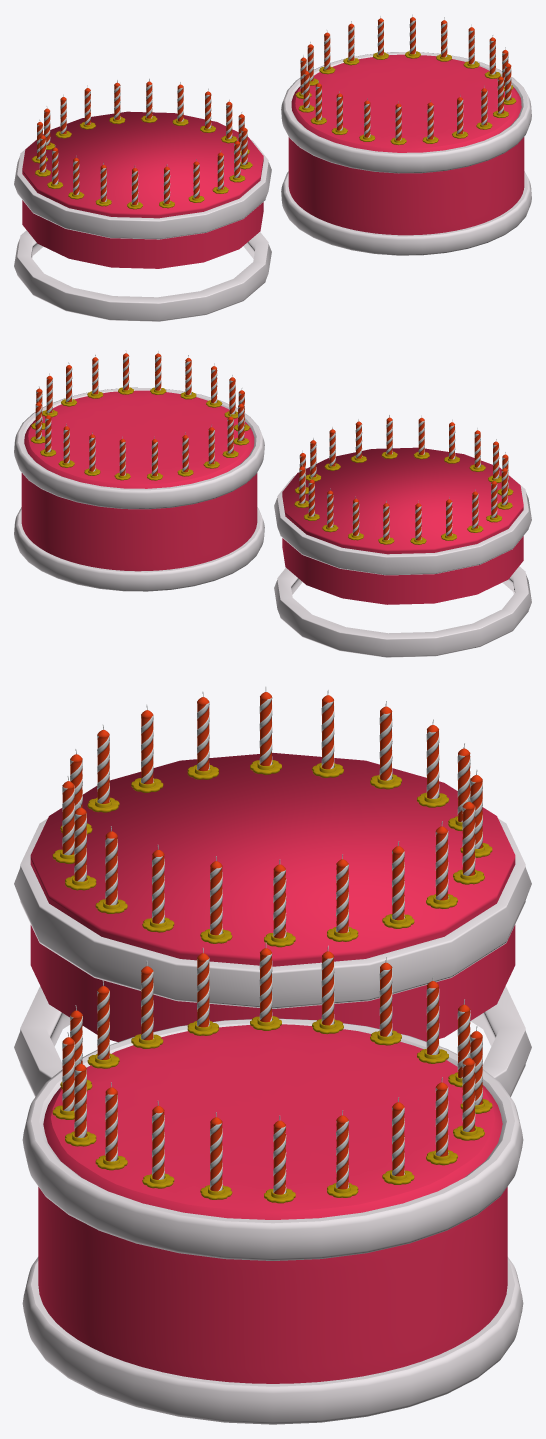
The model's file is cake.glb.
3 renders of one model, top to bottom at view 1: azimuth 30°, elevation 25°; view 2: azimuth 150°, elevation 25°; view 3: azimuth 270°, elevation 25°, orthographic. The views are drawn at different scales.
Visible parts, largest first — view 1: Kaars.001_0.001, Cylinder, Cylinder.004, Kaars.001_0.004, Cylinder.001; view 2: Kaars.001_0.001, Cylinder, Cylinder.004, Kaars.001_0.004, Cylinder.001; view 3: Kaars.001_0.001, Cylinder, Kaars.001_0.004, Cylinder.001, Cylinder.004.
Part boxes in pixels (x1=…): Kaars.001_0.001: x1=281, y1=14, x2=531, y2=255; Cylinder: x1=22, y1=111, x2=263, y2=268; Cylinder.004: x1=14, y1=230, x2=271, y2=321; Kaars.001_0.004: x1=32, y1=78, x2=252, y2=209; Cylinder.001: x1=14, y1=139, x2=271, y2=239; Kaars.001_0.001: x1=14, y1=350, x2=264, y2=591; Cylinder: x1=282, y1=447, x2=523, y2=604; Cylinder.004: x1=274, y1=566, x2=531, y2=657; Kaars.001_0.004: x1=294, y1=415, x2=513, y2=544; Cylinder.001: x1=274, y1=475, x2=531, y2=575; Kaars.001_0.001: x1=22, y1=942, x2=523, y2=1424; Cylinder: x1=30, y1=753, x2=515, y2=1041; Kaars.001_0.004: x1=52, y1=686, x2=492, y2=947; Cylinder.001: x1=14, y1=818, x2=531, y2=1008; Cylinder.004: x1=14, y1=986, x2=531, y2=1096.
Size of the model in its own units: 4.6 by 1.37 by 2.14.
